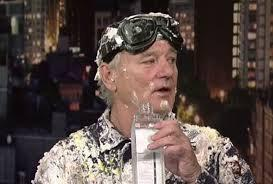Drunk: (119, 32, 179, 118)
